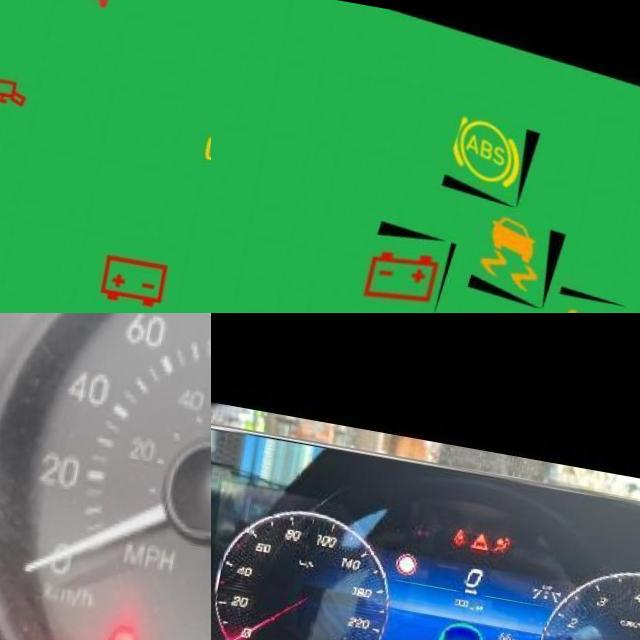Seat Belt: (461, 517, 476, 535)
